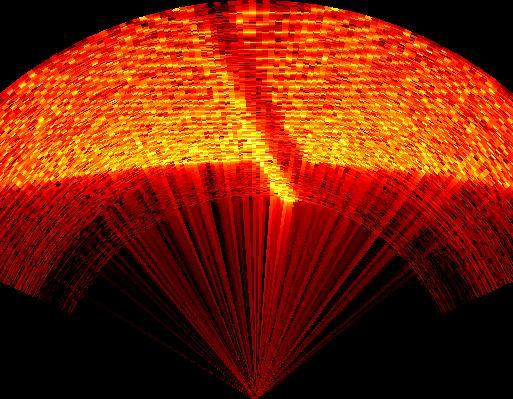pipe: (196, 2, 322, 196)
